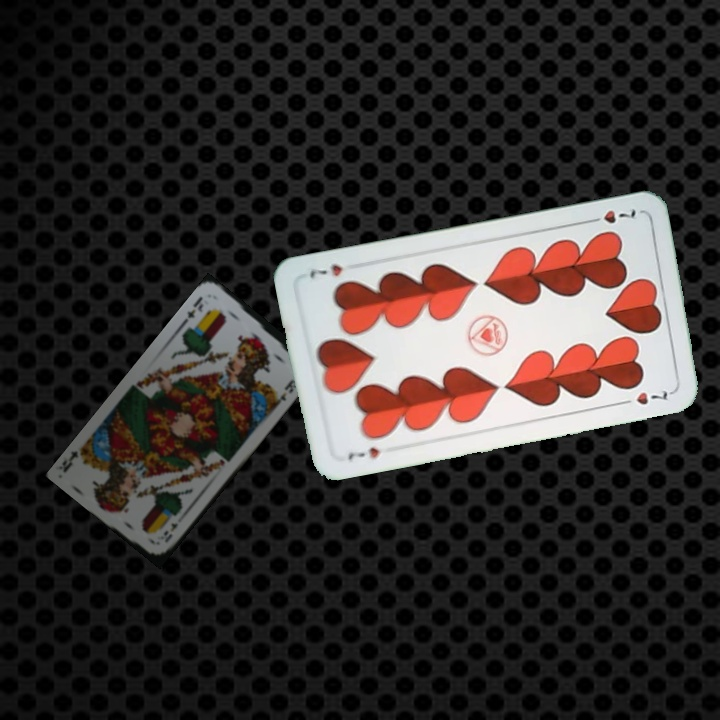EK: (179, 292, 206, 326), (159, 519, 181, 545)
H7: (583, 205, 639, 226), (344, 443, 382, 463)
